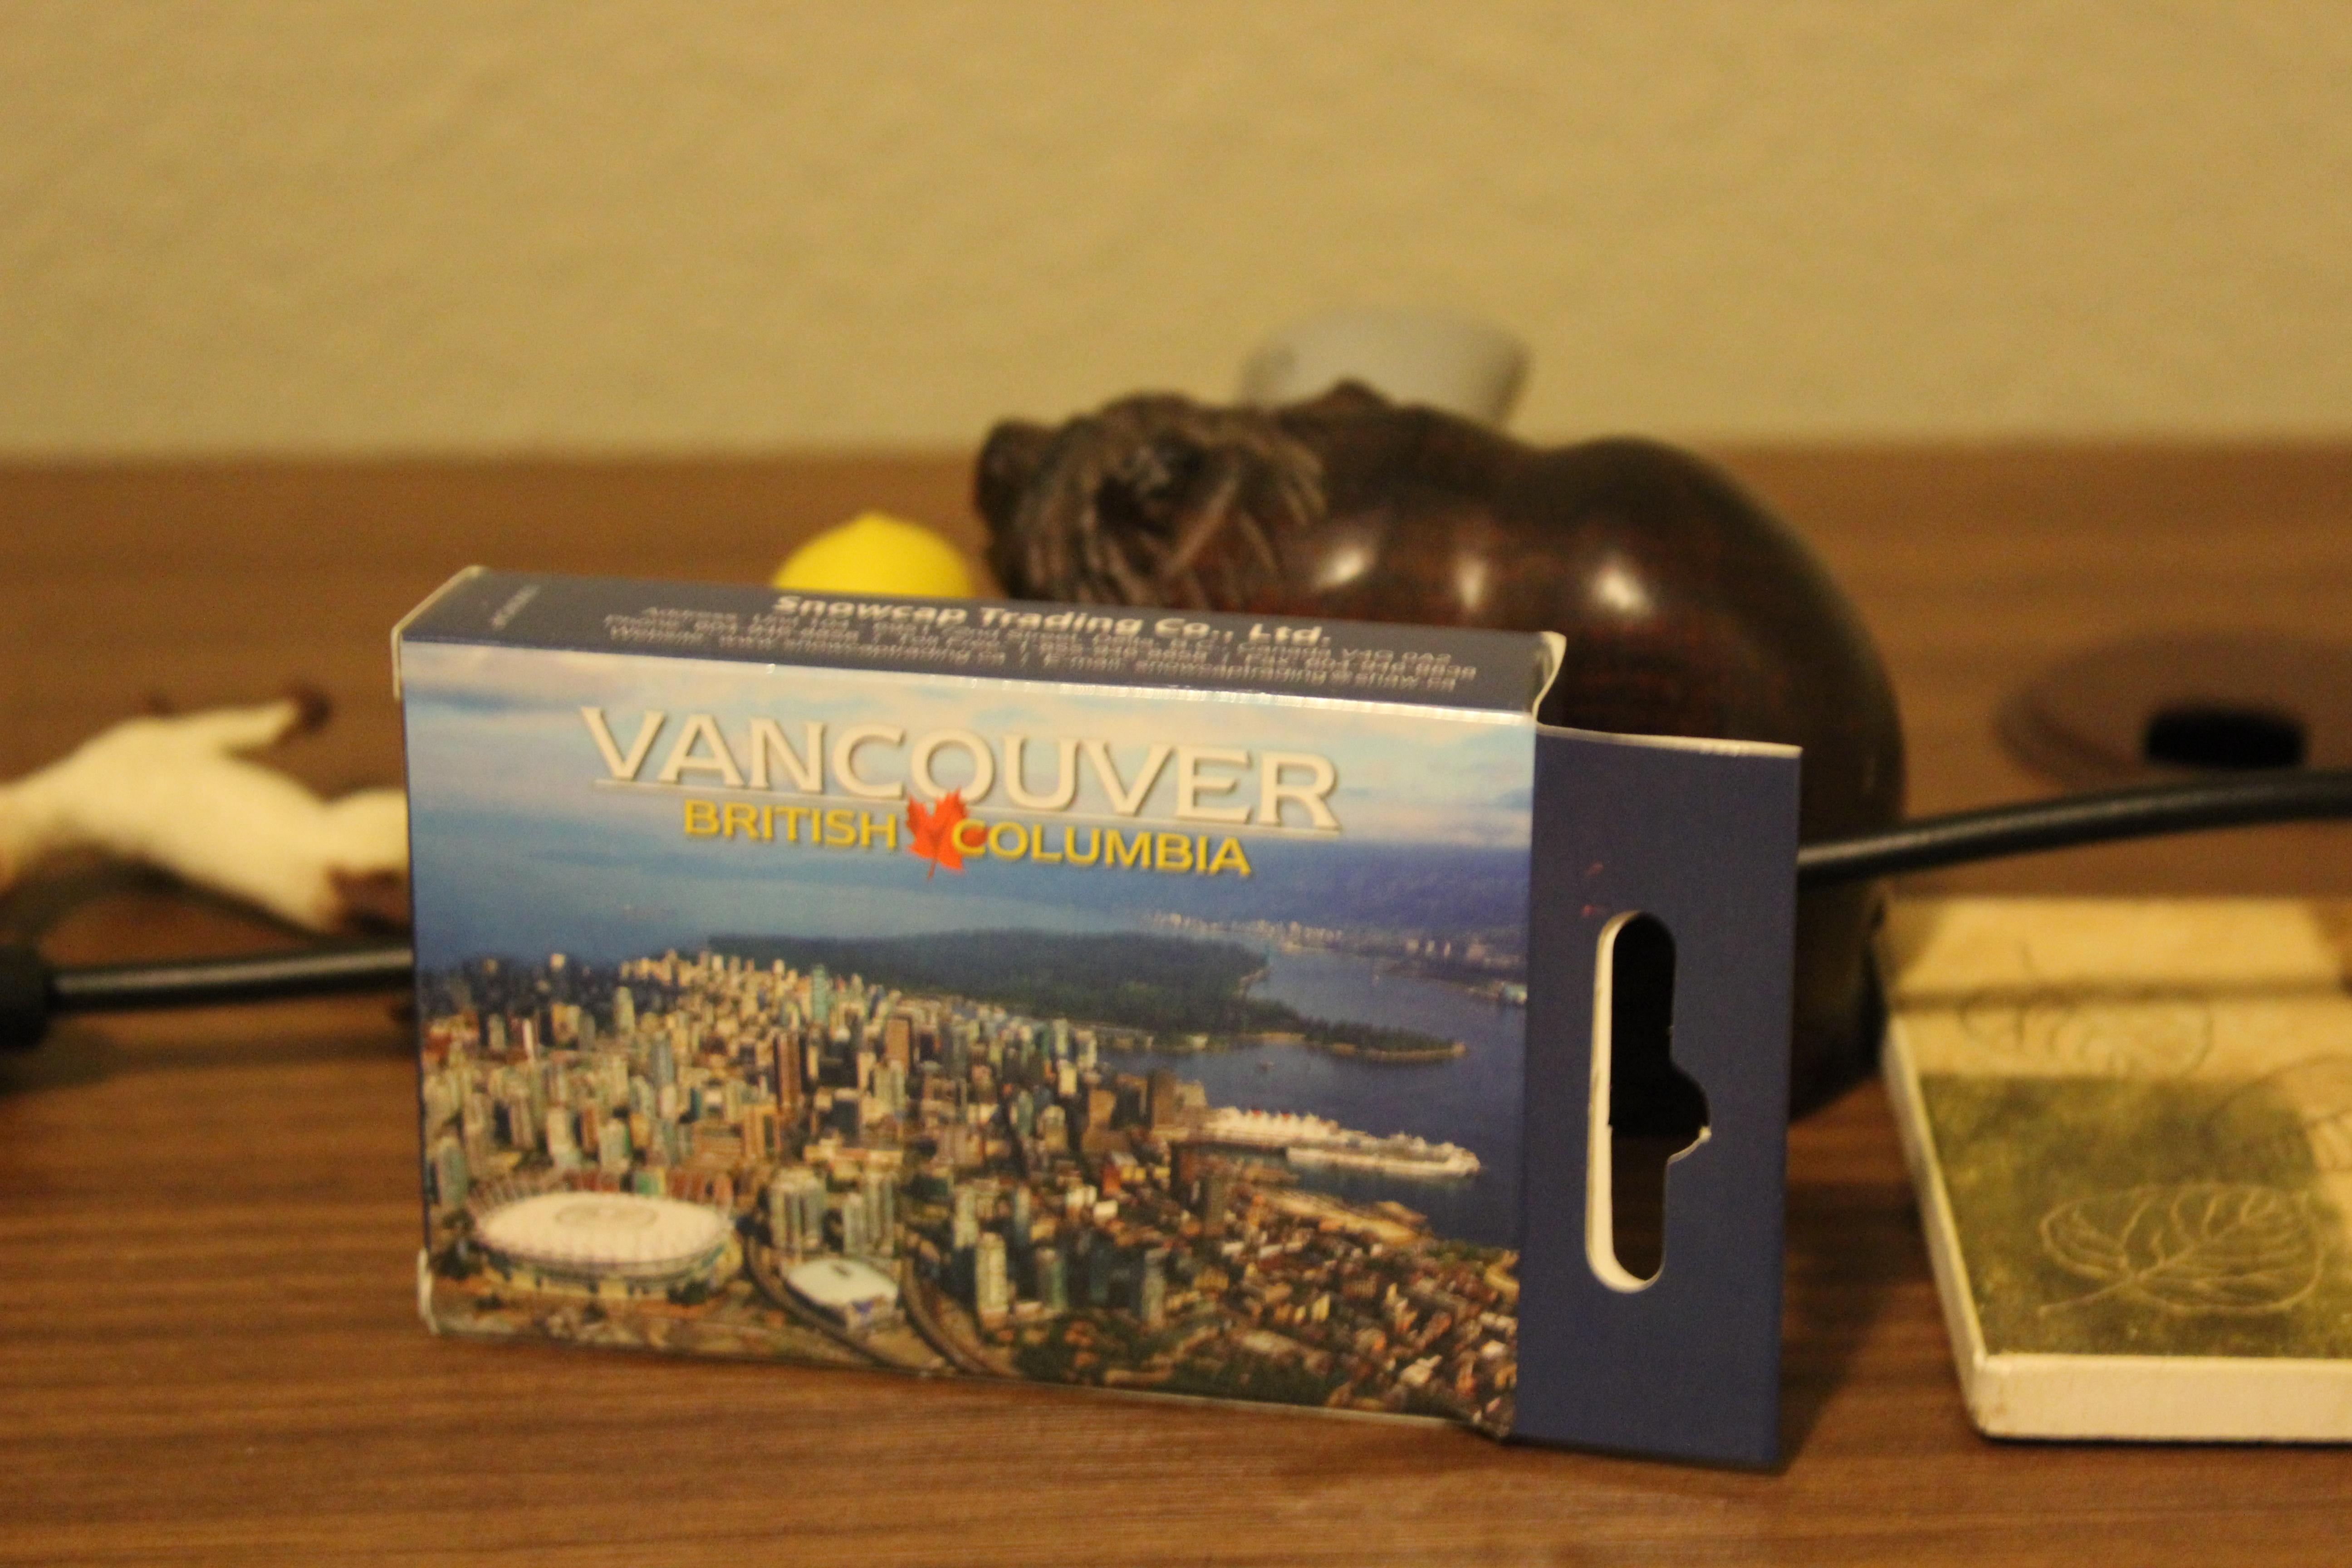vancouverCards: (340, 504, 1855, 1526)
